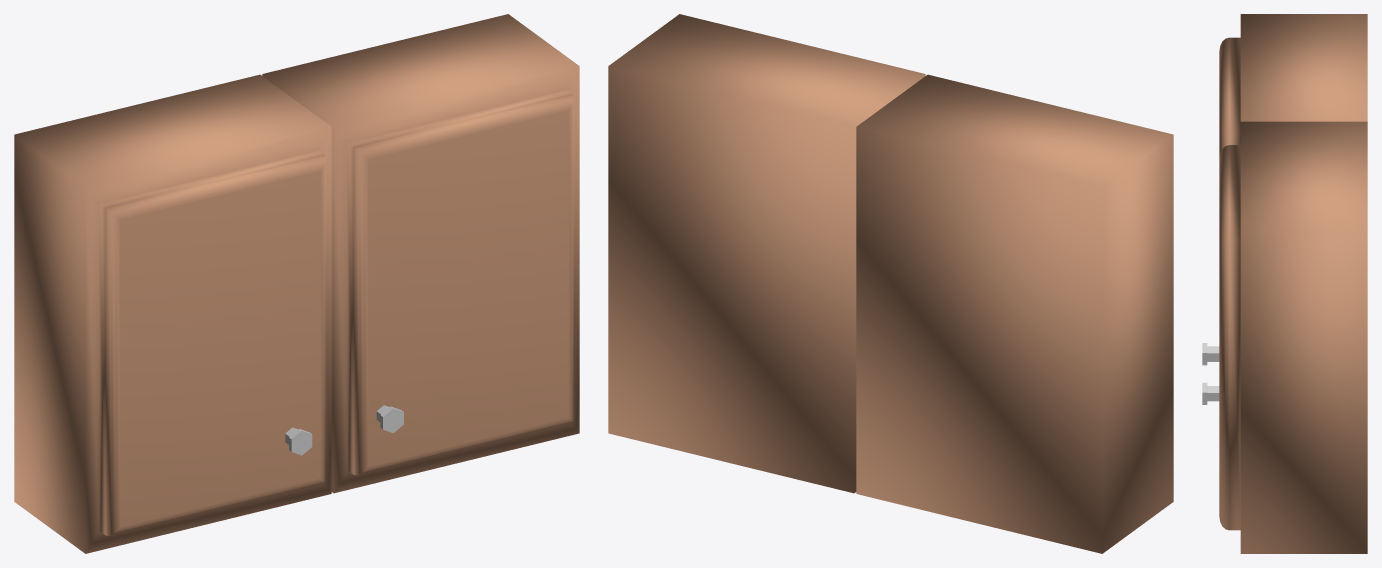
Rendered from Backcupboard_v1.fbx.
3 views of the same model, side by side, from view 1: azimuth 30°, elevation 25°; view 2: azimuth 150°, elevation 25°; view 3: azimuth 270°, elevation 25° (orthographic). The views are drawn at different scales.
Parts seen in each view (by area): view 1: back_cupborad; view 2: back_cupborad; view 3: back_cupborad.
Boxes of the visible parts, bbox=[...] form: back_cupborad: bbox=[14, 14, 579, 553]; back_cupborad: bbox=[608, 14, 1173, 553]; back_cupborad: bbox=[1202, 14, 1367, 553].
Bounding box in the file's own units: 127 × 90.33 × 41.48.
